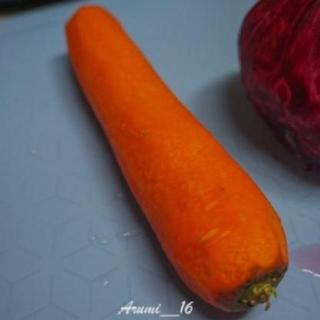carrot: (56, 0, 290, 313)
